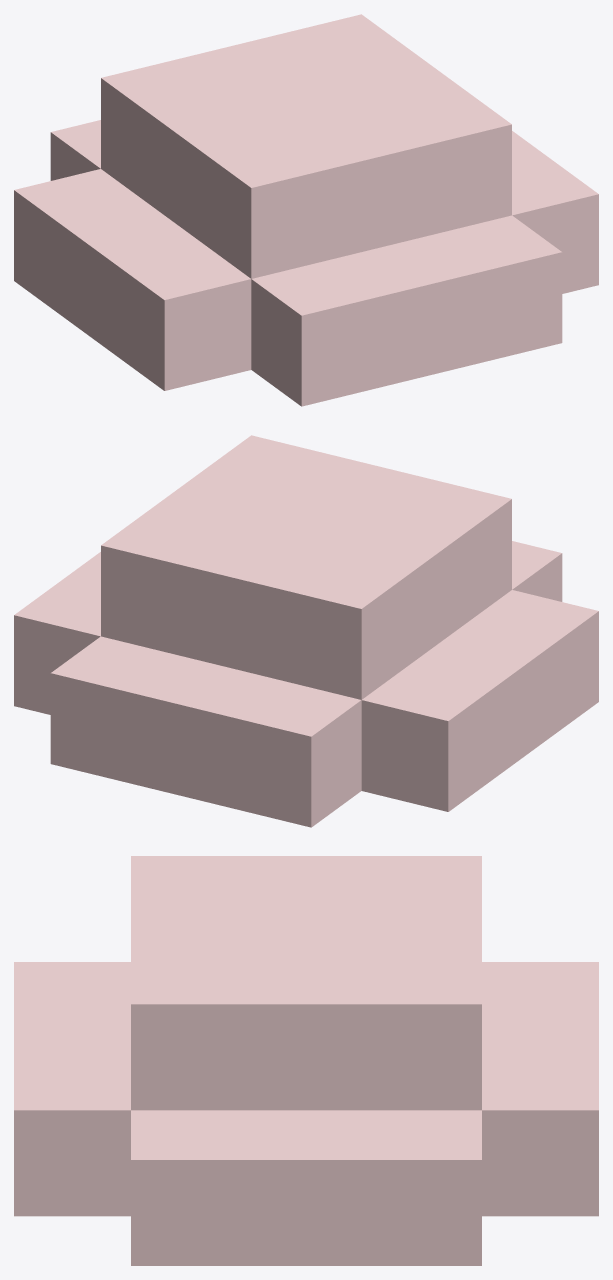
Rendered from Pellet Tile.obj.
3 views of the same model, one above another, from view 1: azimuth 30°, elevation 25°; view 2: azimuth 150°, elevation 25°; view 3: azimuth 270°, elevation 25° (orthographic). The views are drawn at different scales.
Size of the model in its own units: 5 by 2 by 5.
